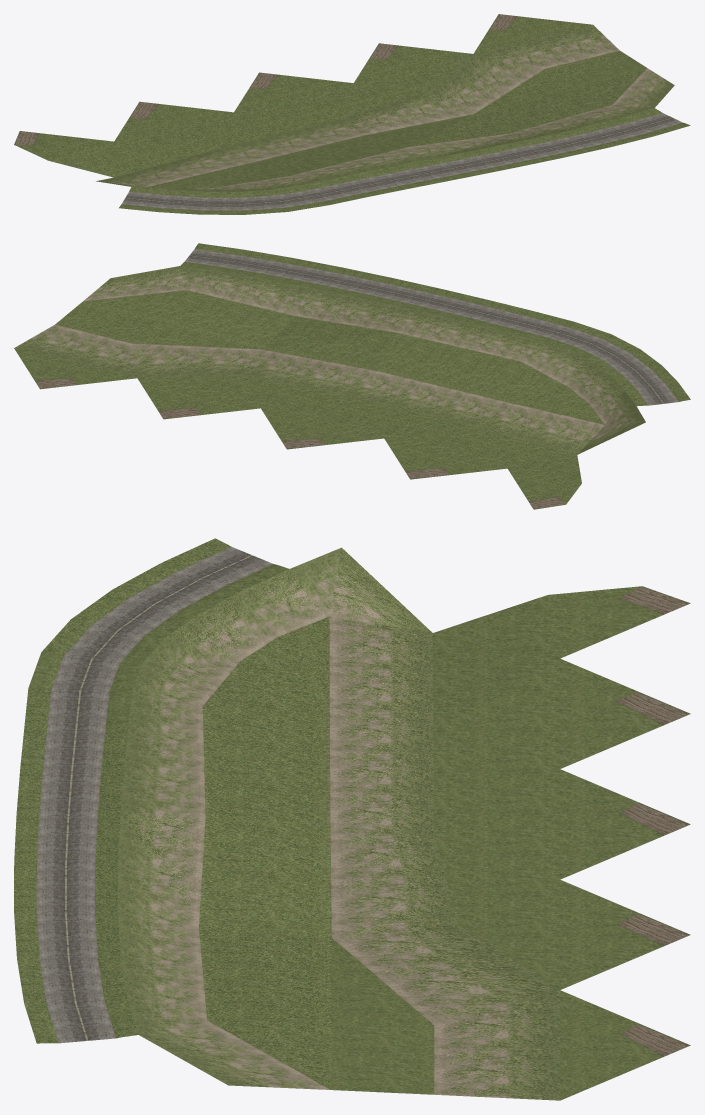
Rendered from ne_bit_25.obj.
3 views of the same model, one above another, from view 1: azimuth 30°, elevation 25°; view 2: azimuth 150°, elevation 25°; view 3: azimuth 270°, elevation 25° (orthographic). The views are drawn at different scales.
Parts seen in each view (by area): view 1: ne_bit_25; view 2: ne_bit_25; view 3: ne_bit_25.
Part boxes in pixels (x1,y1,x2,y2): ne_bit_25: (14, 14, 690, 214); ne_bit_25: (14, 243, 690, 509); ne_bit_25: (14, 538, 690, 1100).
Size of the model in its own units: 254 by 10.46 by 139.
Materials: 5 (5 with a texture image).
